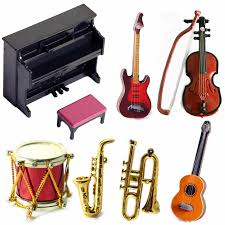Piano: (1, 4, 117, 130)
Saxophone: (66, 132, 126, 222)
Violin: (183, 10, 225, 138)
